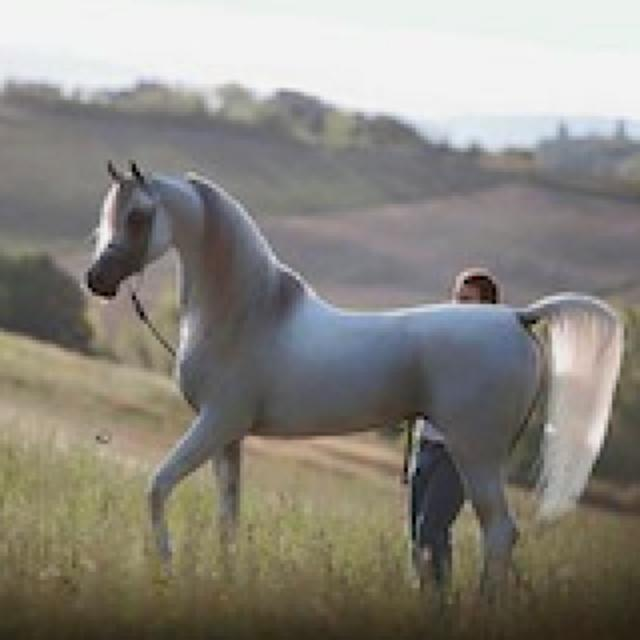Horse: (76, 152, 632, 608)
